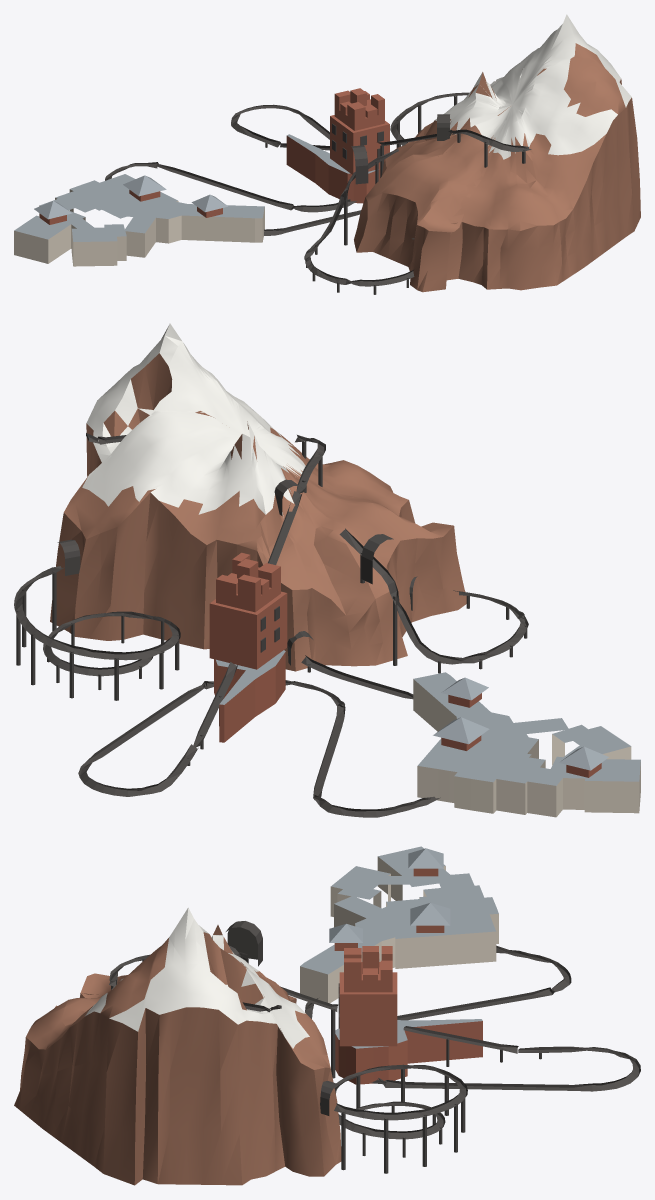
Rendered from wdw-expedition-everest.glb.
The picture shows the model from 3 angles, top to bottom: view 1: azimuth 30°, elevation 25°; view 2: azimuth 150°, elevation 25°; view 3: azimuth 270°, elevation 25°; orthographic projection. The views are drawn at different scales.
Parts seen in each view (by area): view 1: Expedition Everest; view 2: Expedition Everest; view 3: Expedition Everest.
Part boxes in pixels (x1,y1,x2,y2): Expedition Everest: (14, 14, 640, 294); Expedition Everest: (14, 323, 640, 817); Expedition Everest: (14, 846, 640, 1185).
Size of the model in its own units: 164 by 61.5 by 142.
